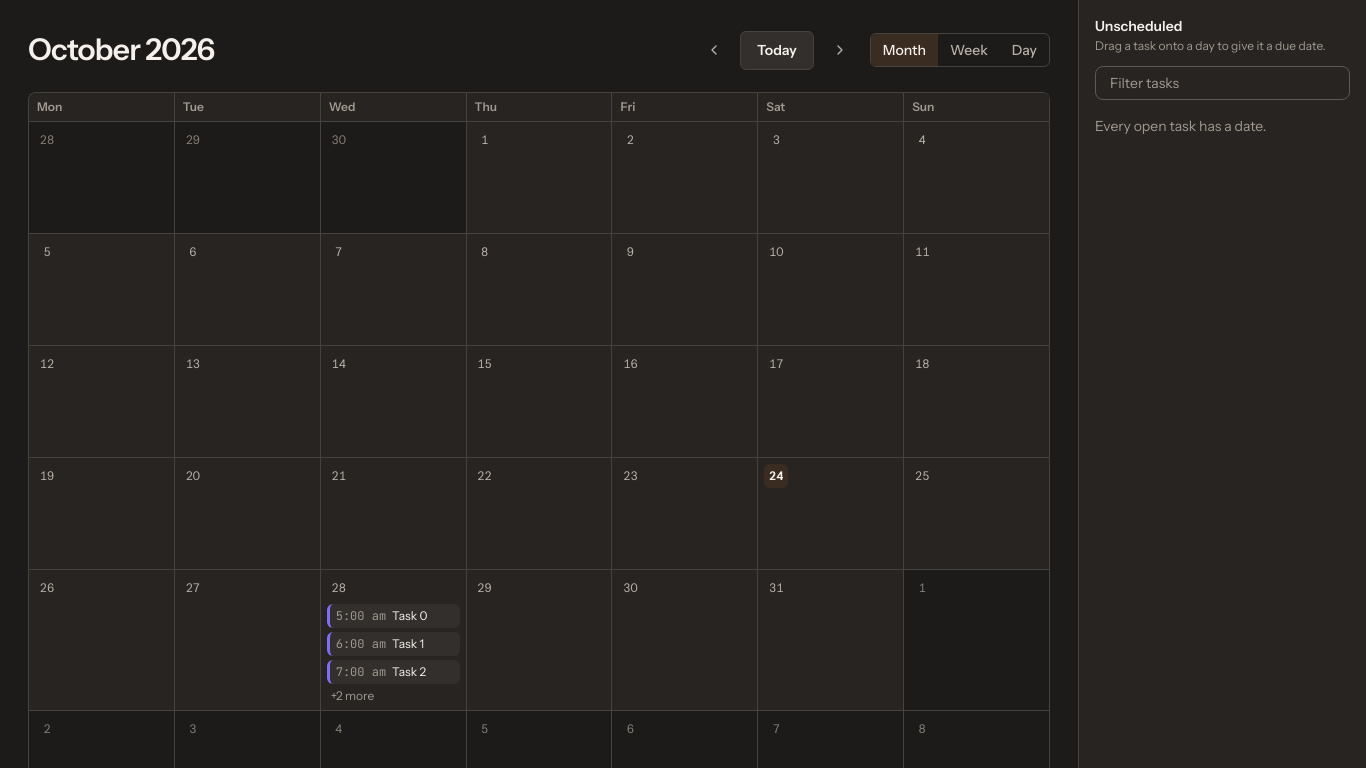
it: CalendarView: month › shows three chips then '+N more', which expands the day
This screenshot has width=1366, height=768.
Expected: the text "Task 0" is shown, [392, 608, 428, 623]
Expected: the text "Task 4" is not shown
Click the button "+2 more". click: (393, 696)
box: [327, 688, 460, 704]
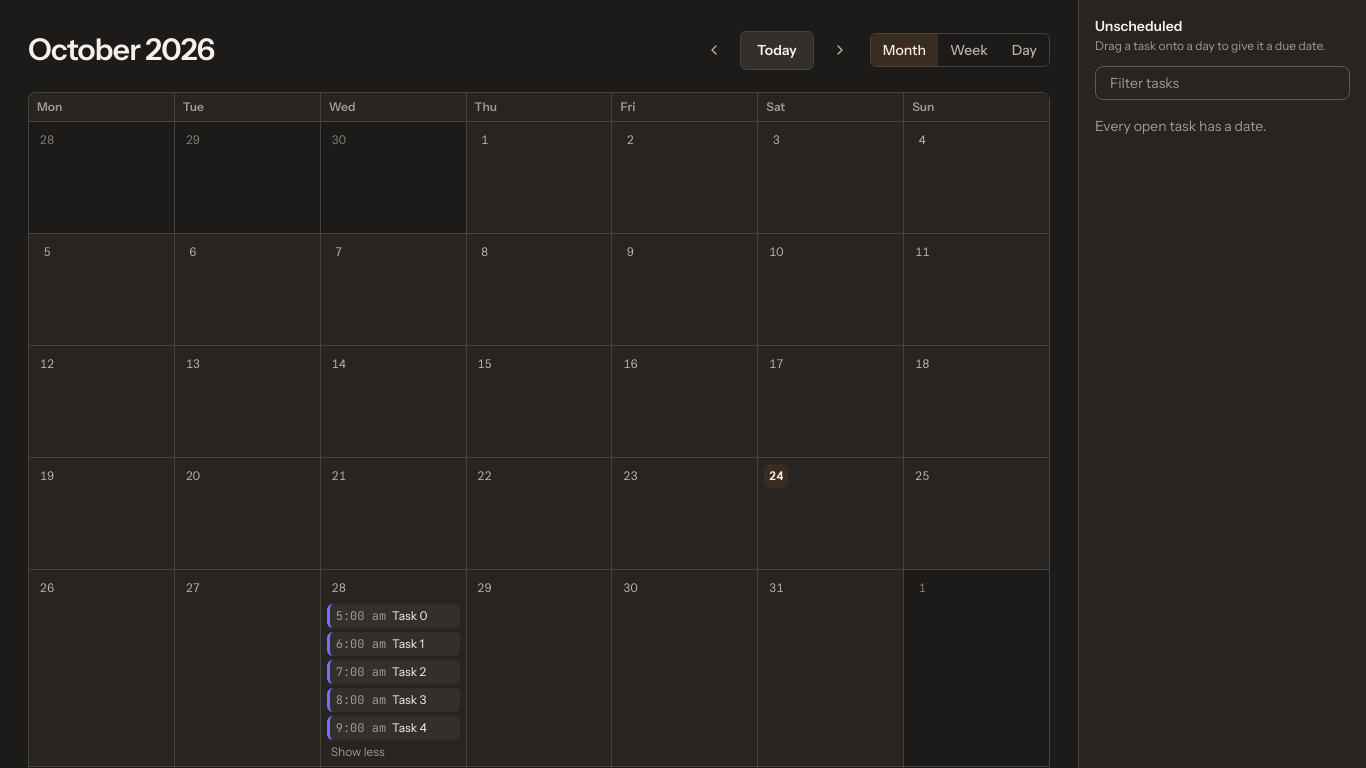
Expected: the text "Task 4" is shown, [392, 720, 427, 735]
Click the button "Show less". click: (393, 752)
box: [327, 744, 460, 760]
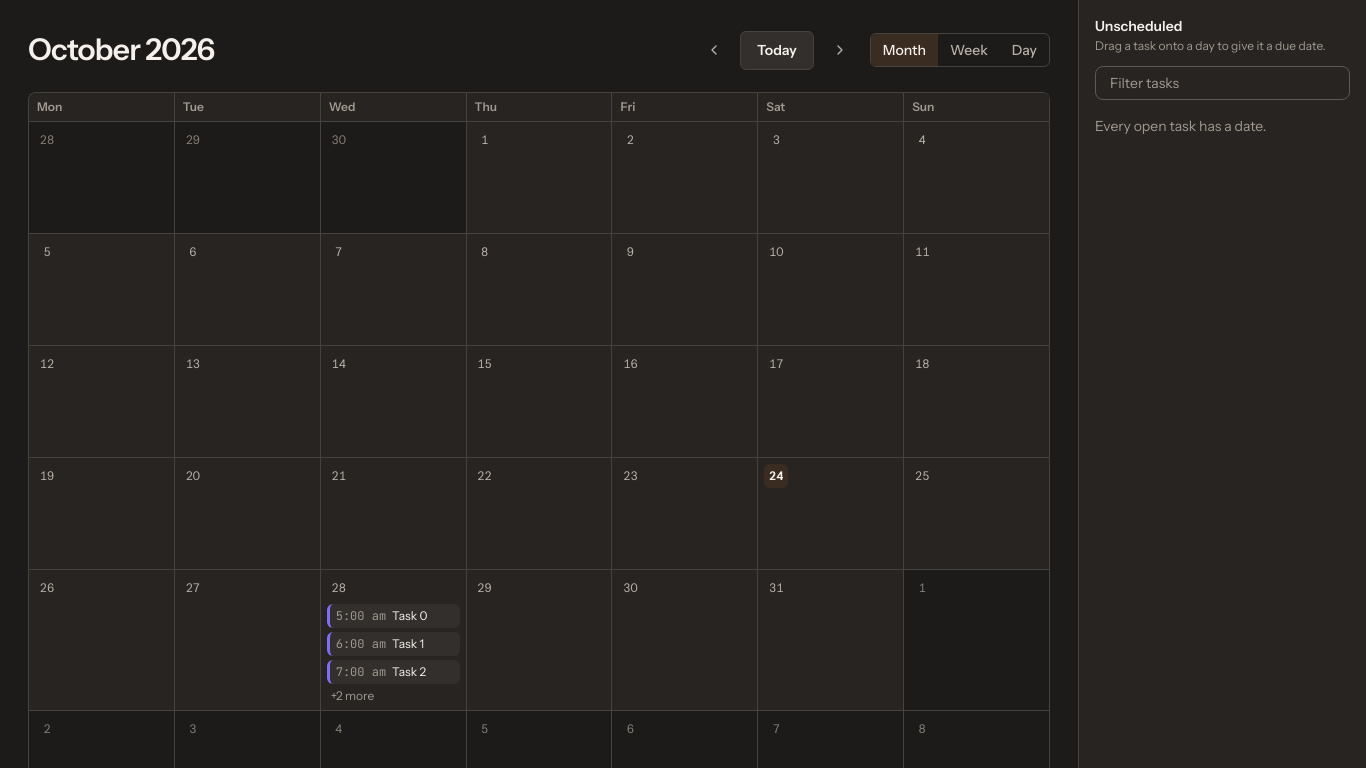
Expected: the button "Task 4" is gone
